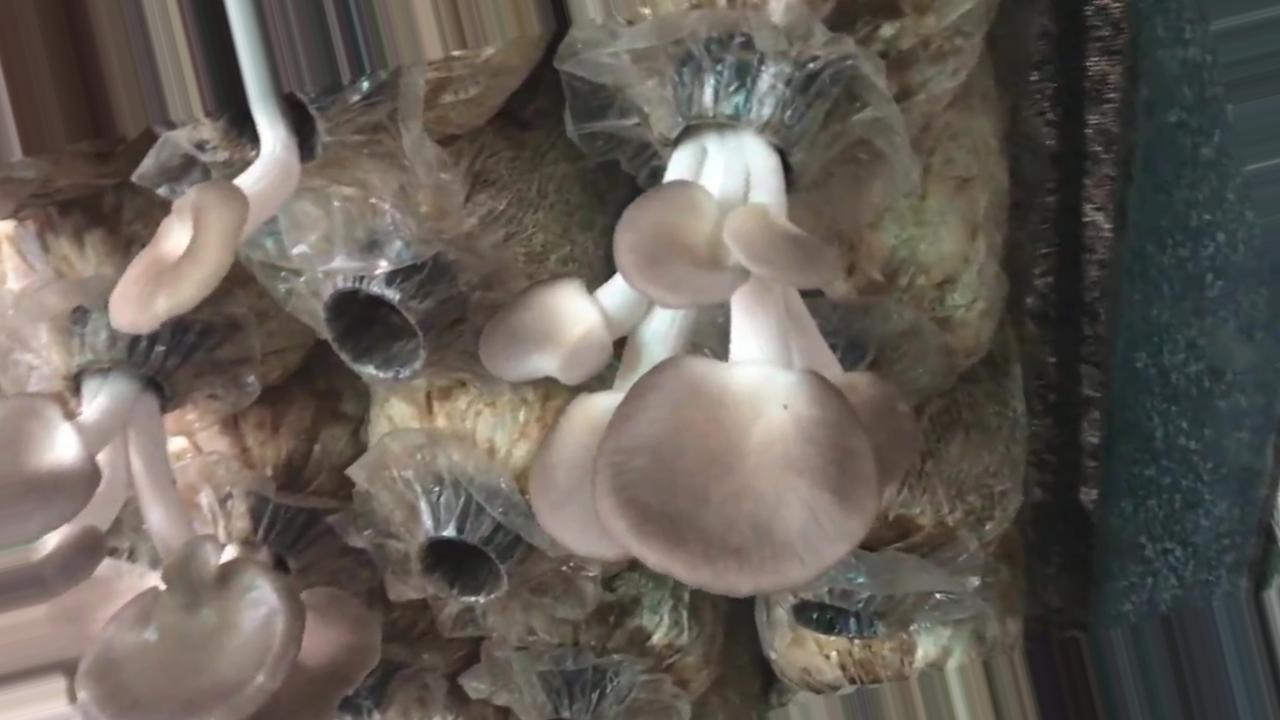nam: (480, 48, 924, 599), (1, 305, 306, 720), (106, 1, 339, 337)
